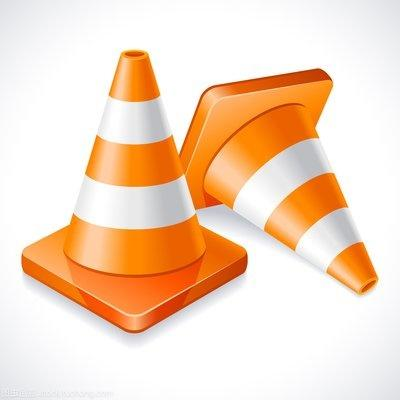cone_barrel: (201, 60, 388, 291), (48, 43, 212, 283)
